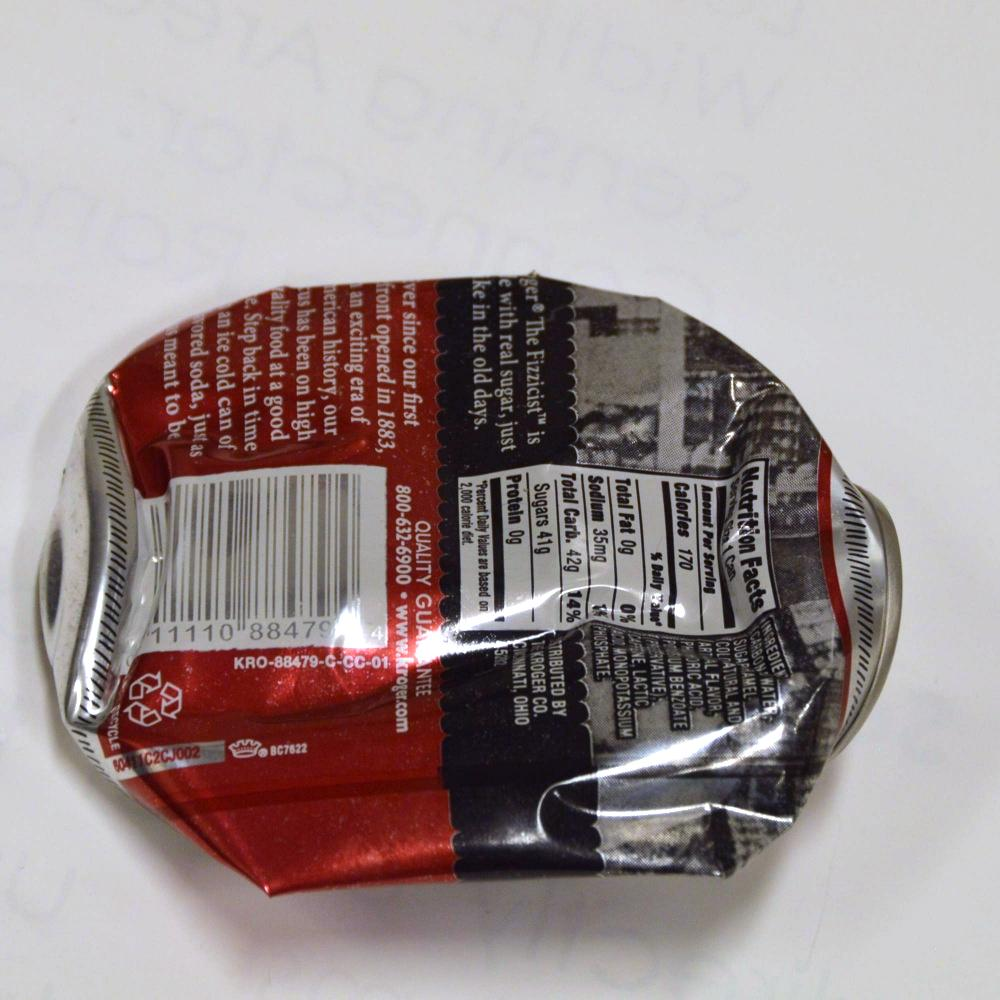Metal: (35, 278, 880, 932)
